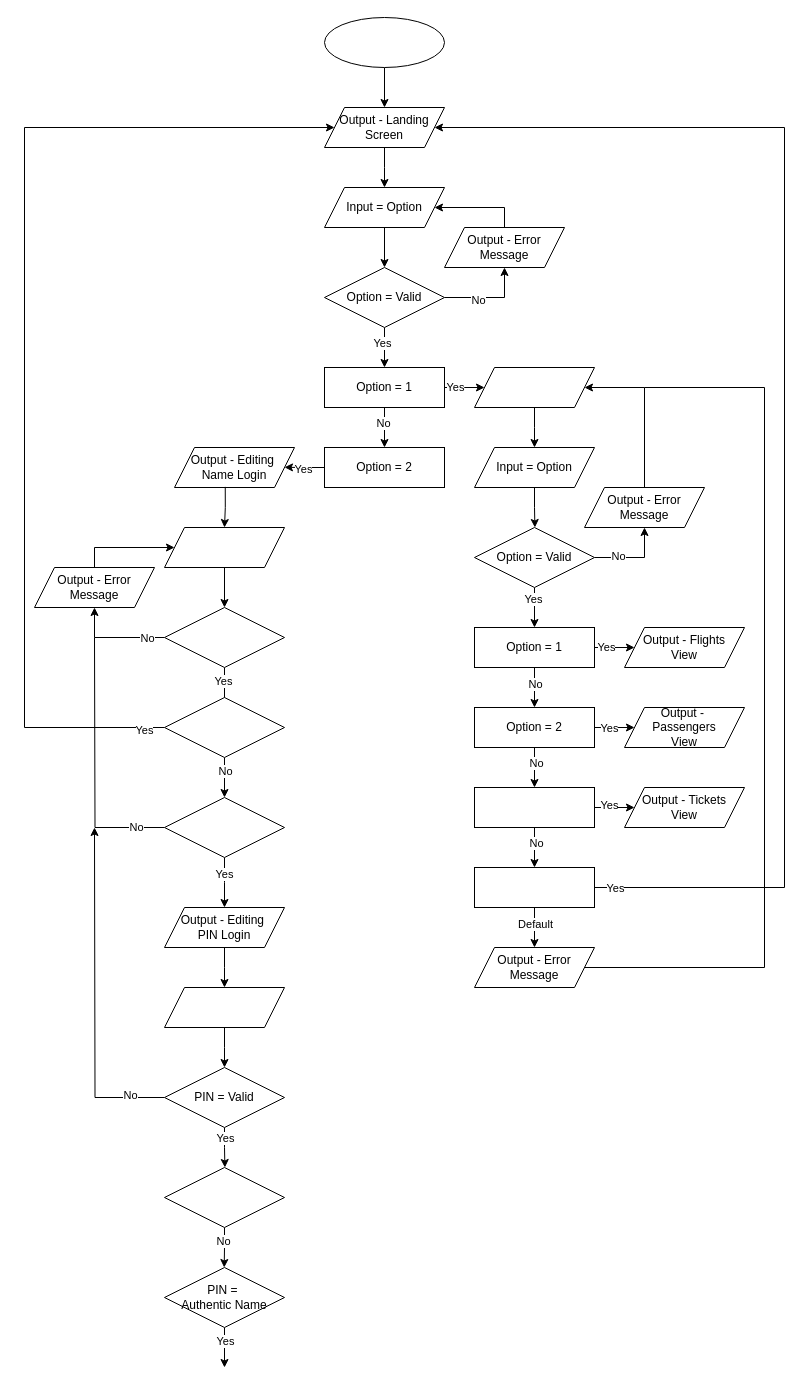
This 810x1393 diagram has some shape labels left out. The shapes that lost their labels are listed below. From the top down, each one's centre as x and y in pixels, then its label:
At (x=384, y=42): "Start".
At (x=534, y=387): "Output - General View".
At (x=224, y=547): "Input = Name".
At (x=224, y=637): "Name = Valid".
At (x=224, y=727): "Name = R".
At (x=224, y=827): "Name = Authentic Name".
At (x=534, y=807): "Option = 3".
At (x=534, y=887): "Option = 4".
At (x=224, y=1007): "Input = PIN".
At (x=224, y=1197): "PIN = R".
